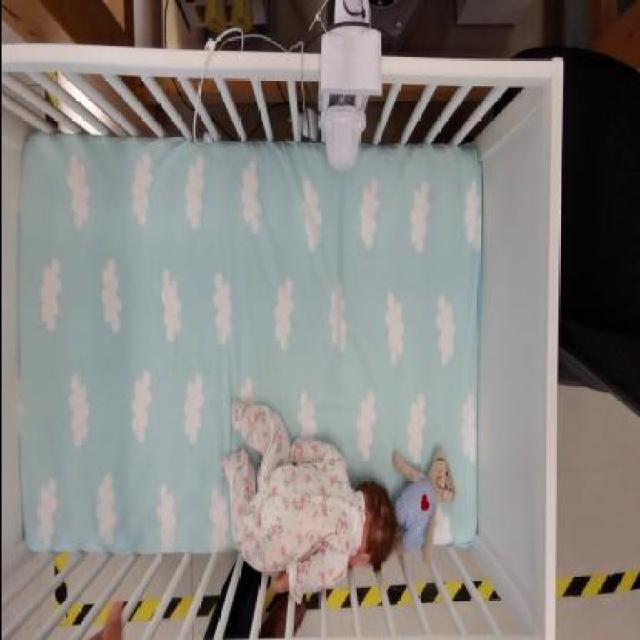baby: (220, 396, 406, 606)
